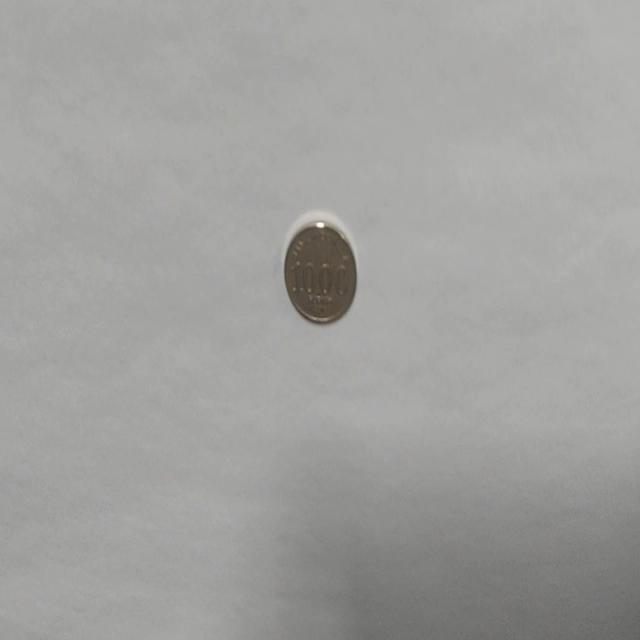seribu rupiah koin: (282, 210, 358, 326)
